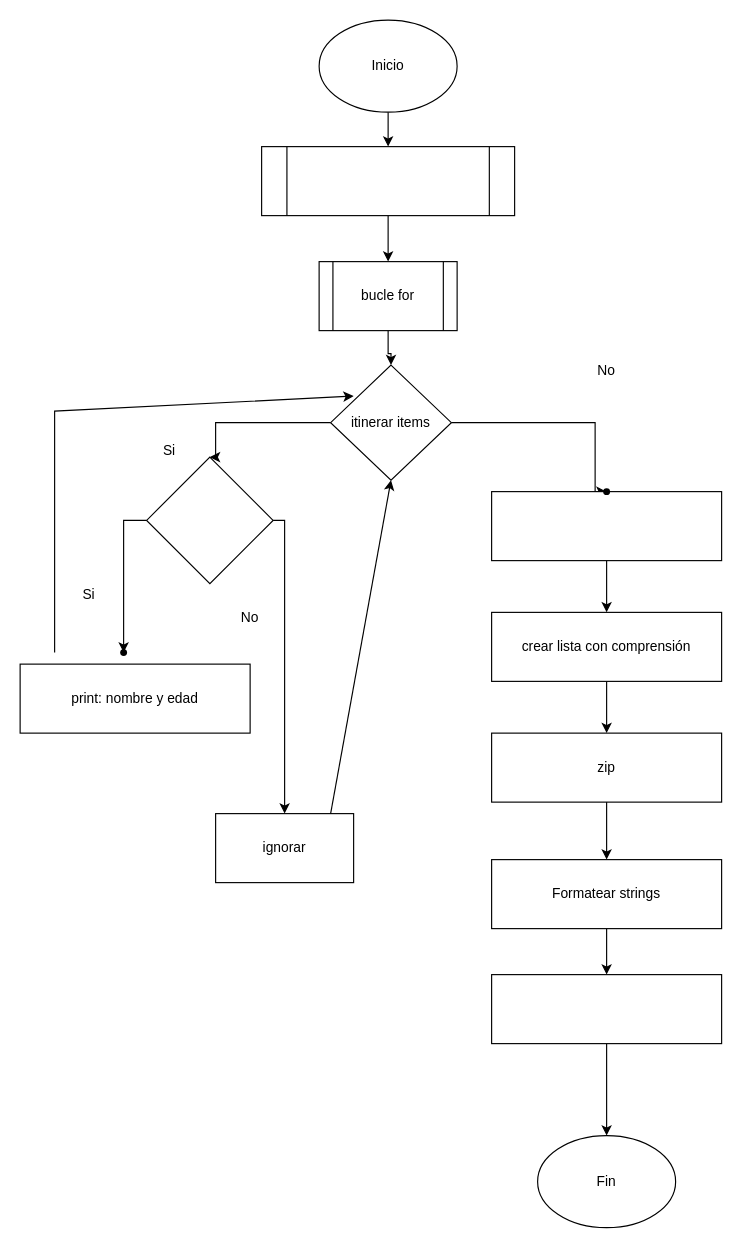
Some shapes in this 742 by 1248 pixel diagram are drawn without their labels. Each missing label, with the box of its shape:
diccionario con nombre y edades: (260, 145, 515, 216)
edad >= 18: (145, 456, 273, 584)
Filtrar mayores de edad: (490, 490, 722, 561)
Return lista_final: (490, 973, 722, 1044)
